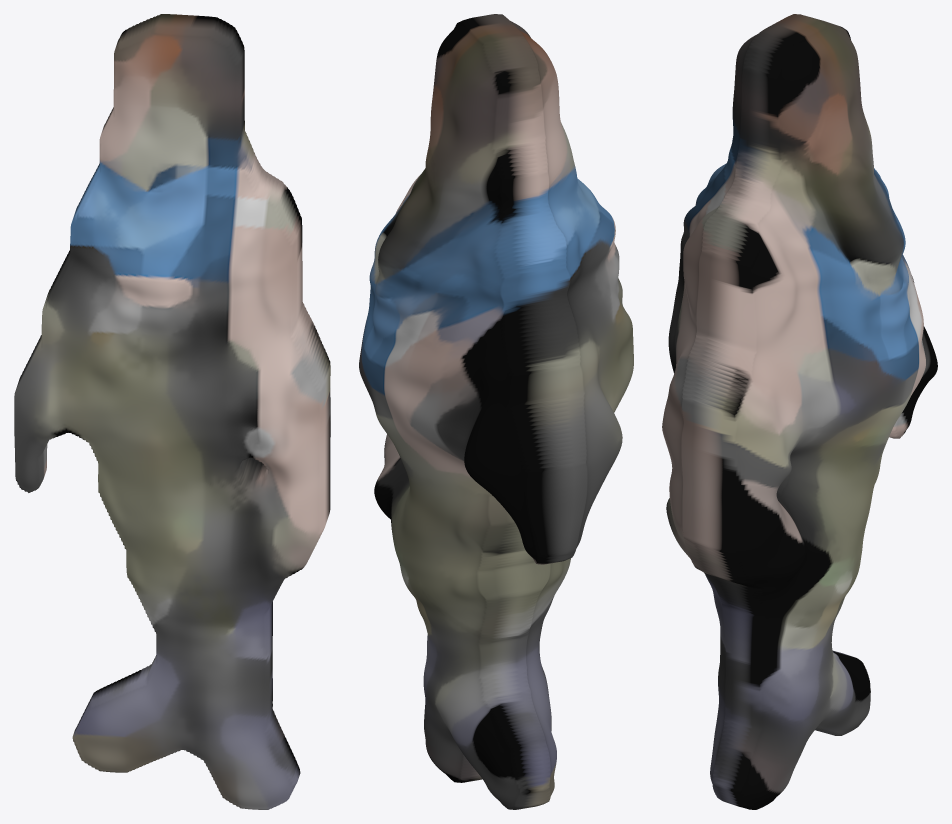
File: tanya.glb
3 renders of one model, left to right at view 1: azimuth 30°, elevation 25°; view 2: azimuth 150°, elevation 25°; view 3: azimuth 270°, elevation 25°, orthographic. The views are drawn at different scales.
Visible parts, largest first — view 1: tanya; view 2: tanya; view 3: tanya.
Part boxes in pixels (x1,y1,x2,y2): tanya: (14, 14, 330, 809); tanya: (359, 14, 633, 809); tanya: (662, 14, 937, 809).
Size of the model in its own units: 0.783 by 2.23 by 0.739.
